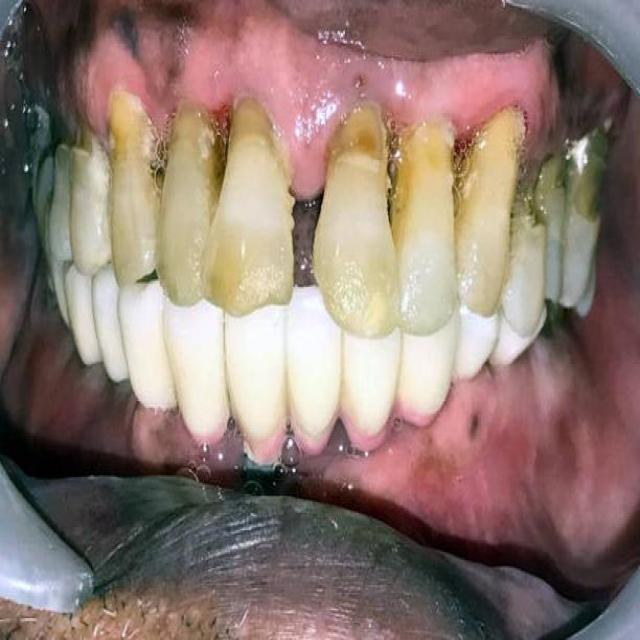caries: (324, 90, 394, 196), (562, 122, 616, 246), (501, 164, 551, 249), (35, 114, 74, 181), (71, 114, 98, 177)
